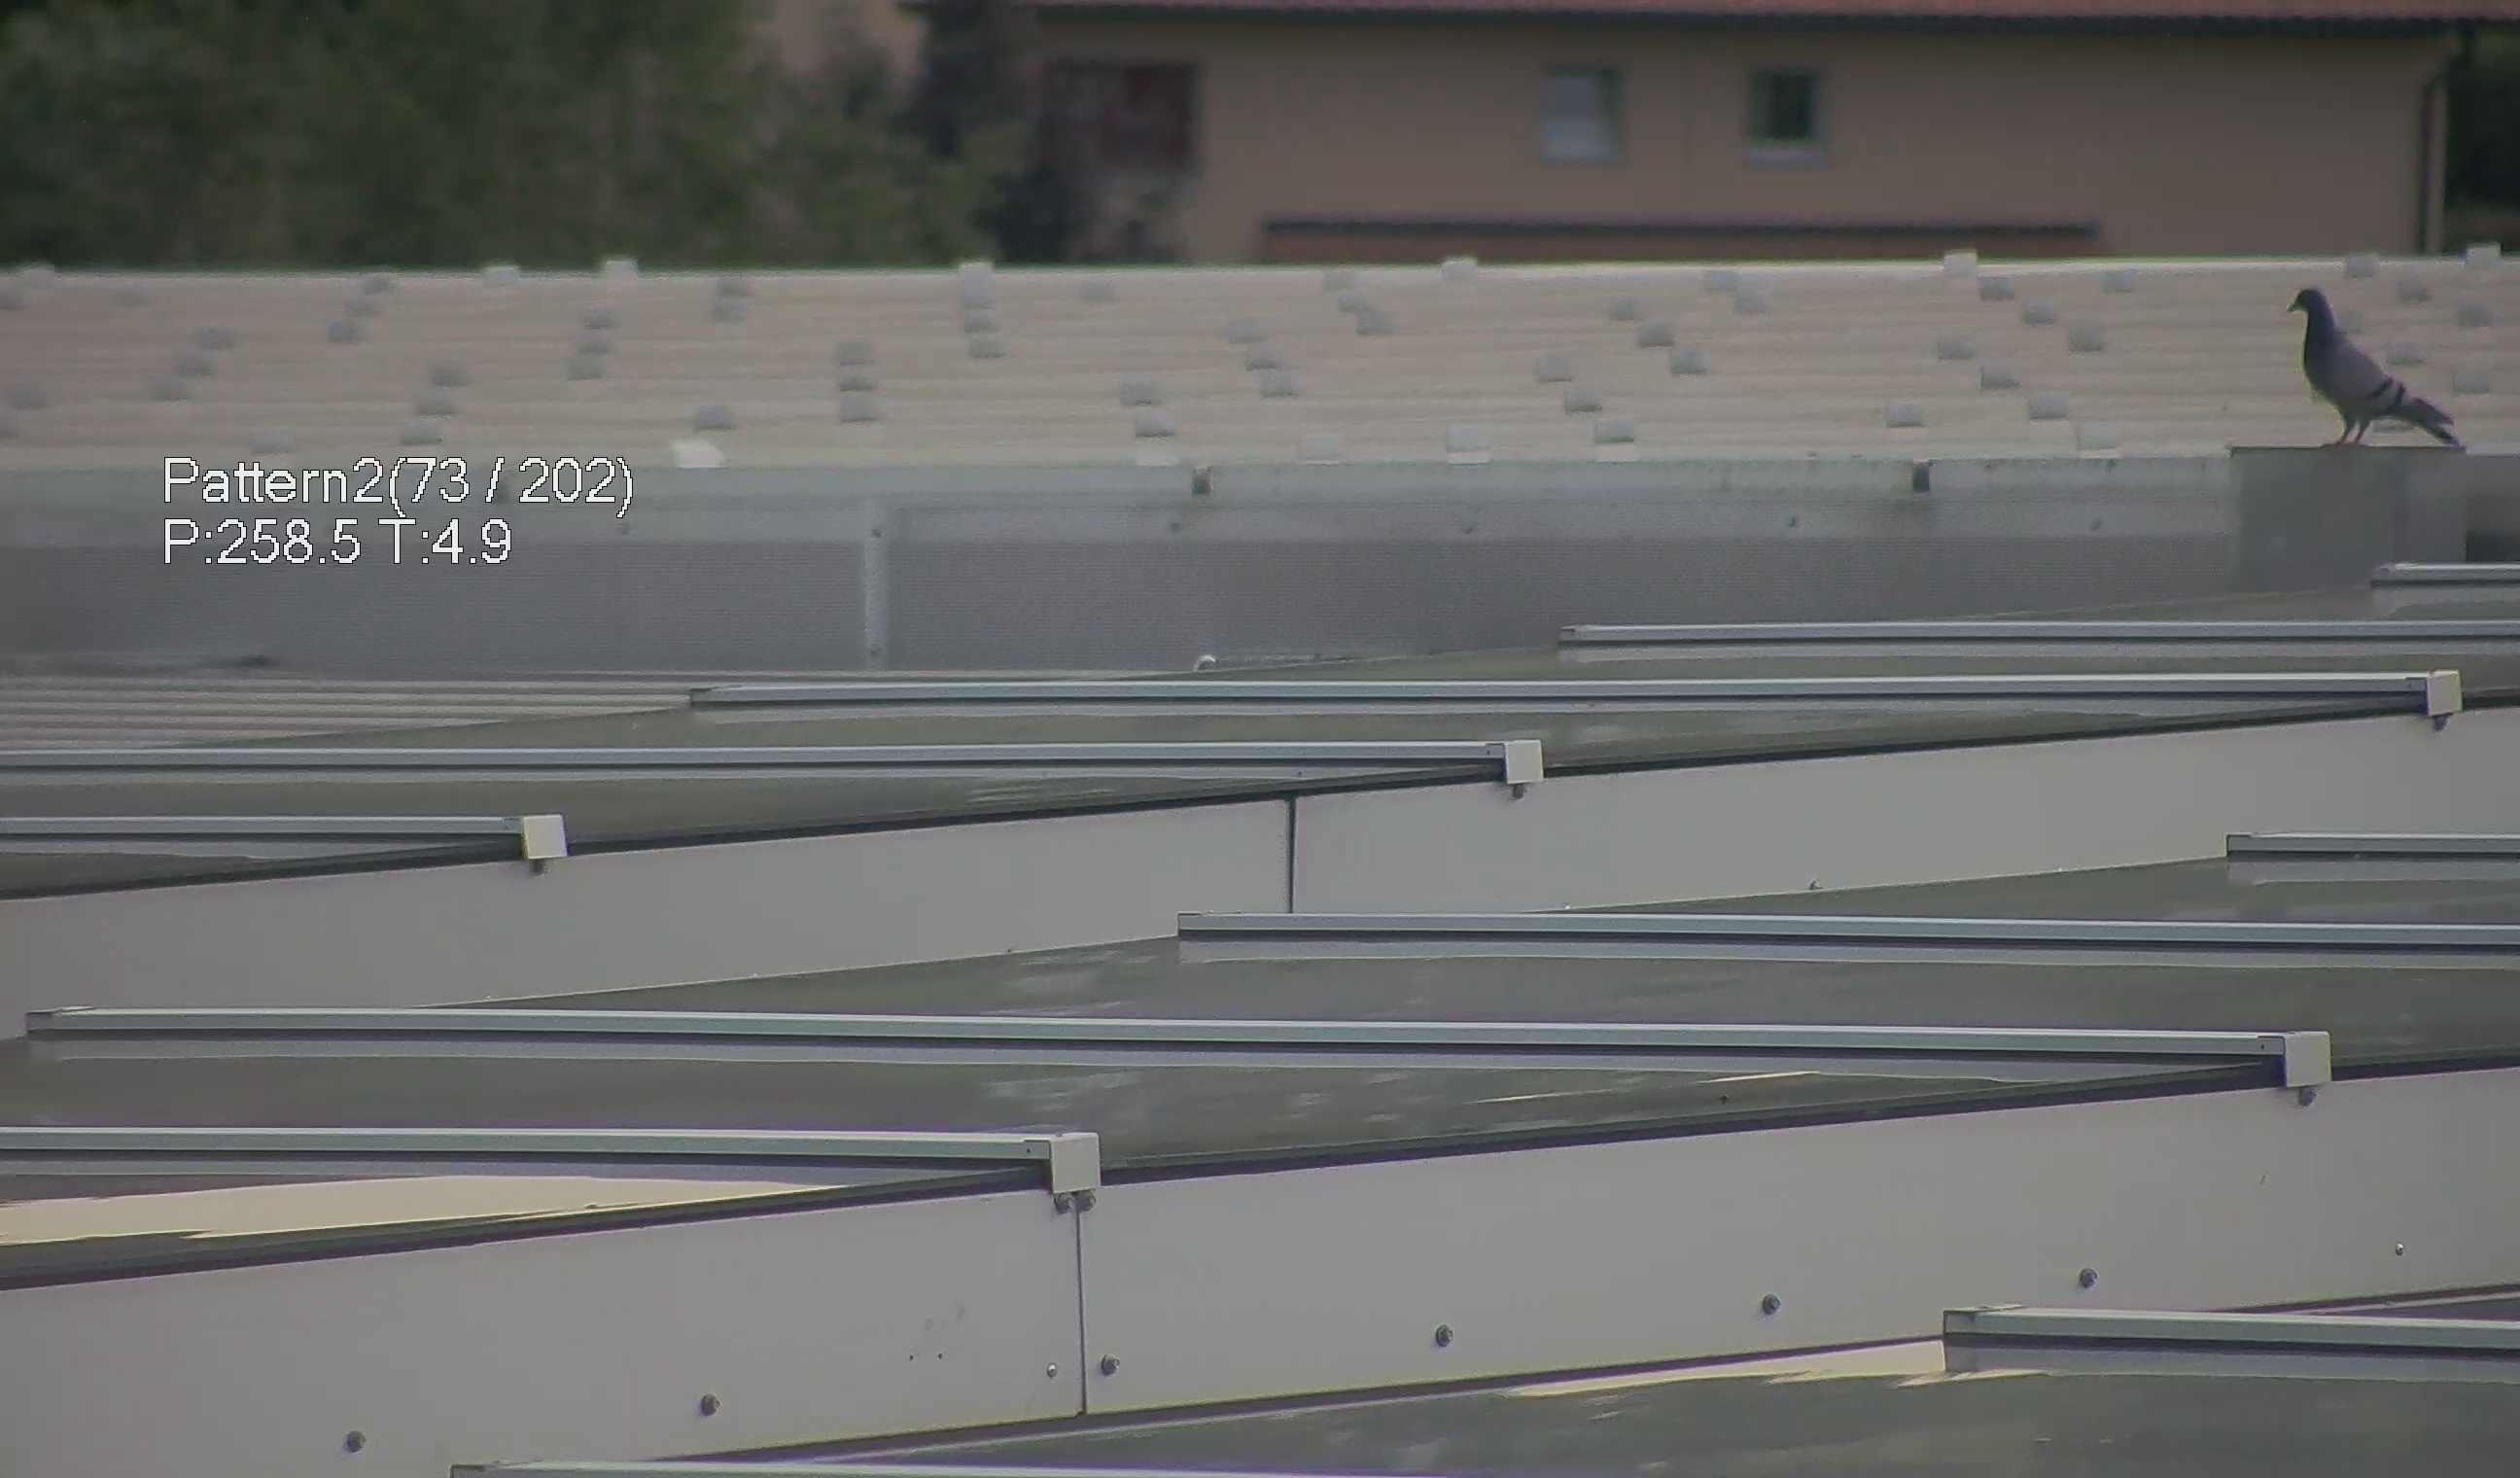Pigeon: (2279, 267, 2473, 459)
